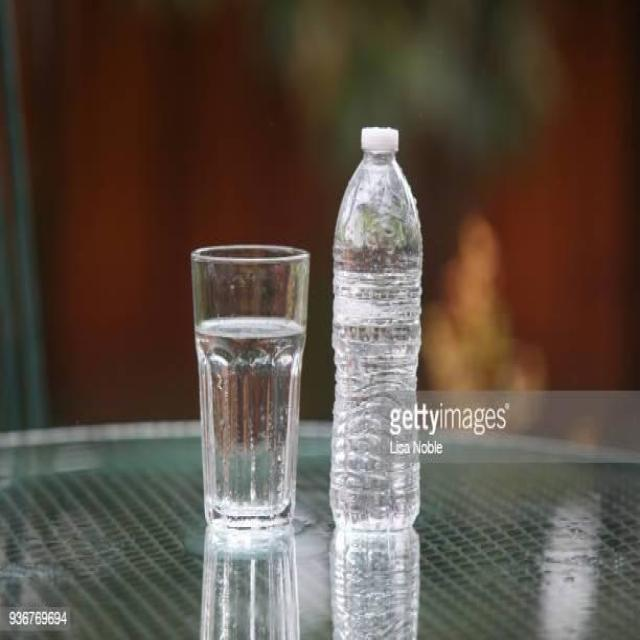bottle: (323, 118, 427, 541)
